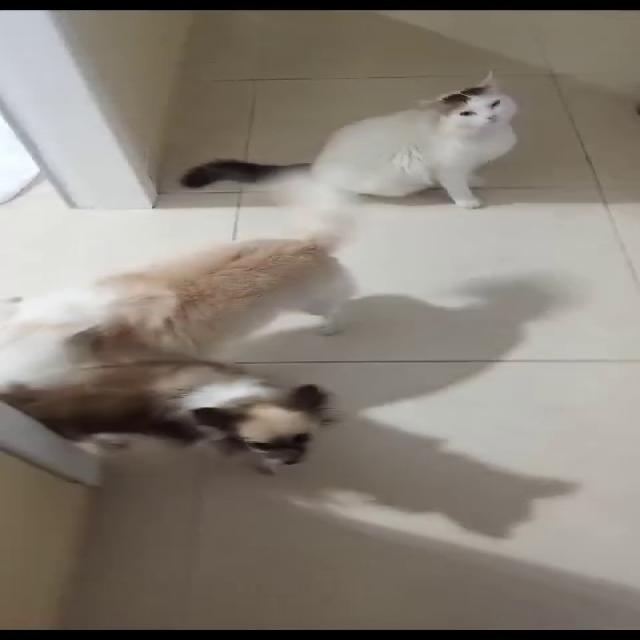Pedrita: (16, 324, 380, 484)
Simba: (211, 53, 562, 213)
Theo: (42, 212, 404, 383)
